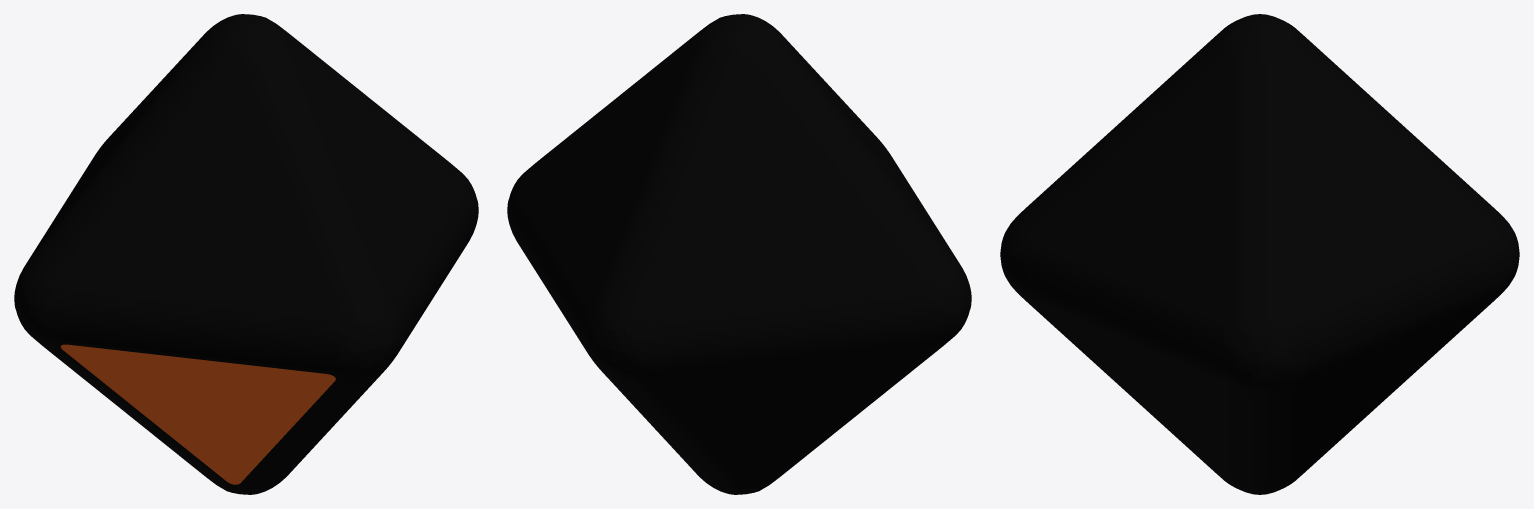
File: o_orange.fbx
The picture shows the model from 3 angles, left to right: view 1: azimuth 30°, elevation 25°; view 2: azimuth 150°, elevation 25°; view 3: azimuth 270°, elevation 25°; orthographic projection.
Parts seen in each view (by area): view 1: o_orange; view 2: o_orange; view 3: o_orange.
Part boxes in pixels (box(x1,y1,x2,y2)): o_orange: box(14, 14, 478, 494); o_orange: box(507, 14, 971, 494); o_orange: box(1000, 14, 1519, 494).
Size of the model in its own units: 174 by 174 by 174.
